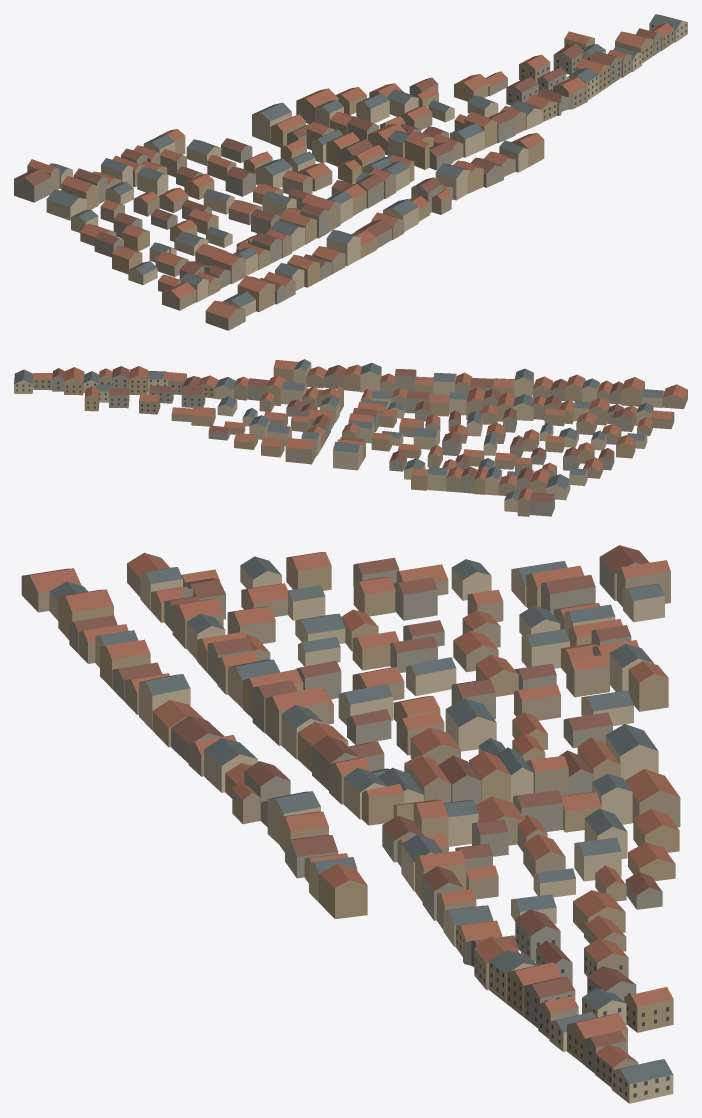
3 renders of one model, top to bottom at view 1: azimuth 30°, elevation 25°; view 2: azimuth 150°, elevation 25°; view 3: azimuth 270°, elevation 25°, orthographic. The views are drawn at different scales.
Visible parts, largest first — view 1: C_-3_-2; view 2: C_-3_-2; view 3: C_-3_-2.
Boxes of the visible parts, <box> form: C_-3_-2: <box>14,14,687,330</box>; C_-3_-2: <box>14,359,687,516</box>; C_-3_-2: <box>21,545,680,1103</box>.
Size of the model in its own units: 368 by 14.34 by 195.
